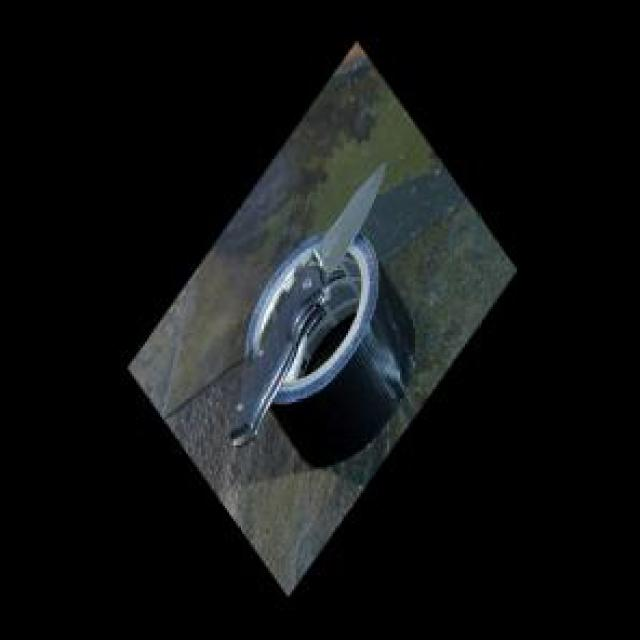knife: (218, 150, 397, 458)
